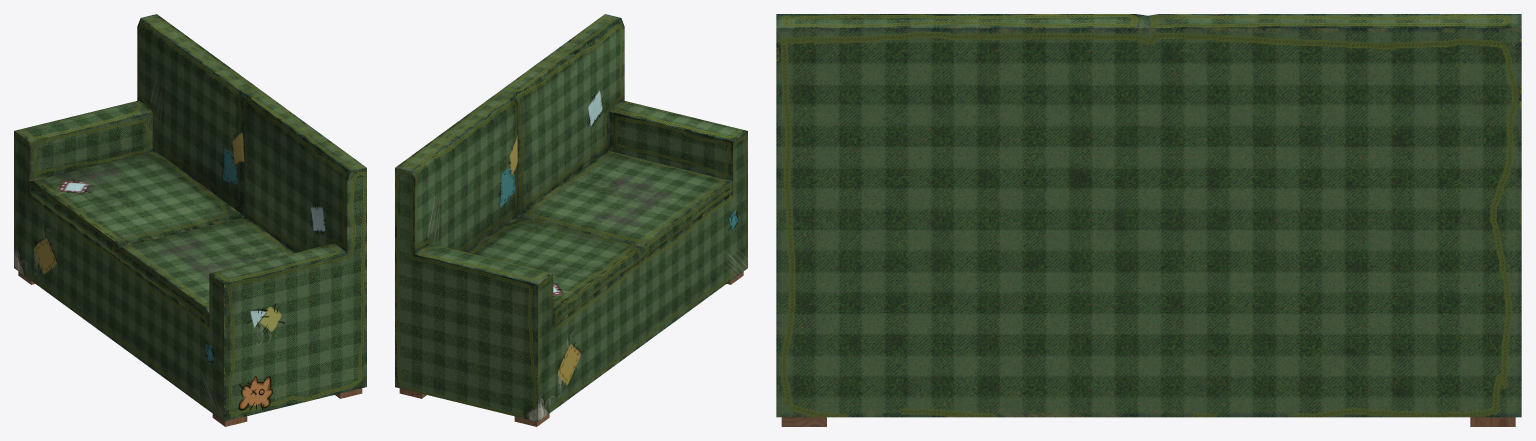
The model's file is Sofa_Fin.fbx.
3 renders of one model, left to right at view 1: azimuth 30°, elevation 25°; view 2: azimuth 150°, elevation 25°; view 3: azimuth 270°, elevation 25°, orthographic. The views are drawn at different scales.
Visible parts, largest first — view 1: sofa; view 2: sofa; view 3: sofa.
Part boxes in pixels (x1,y1,x2,y2): sofa: (14,14,366,426); sofa: (395,14,747,426); sofa: (776,14,1521,426).
Bounding box in the file's own units: 20.08 × 30 × 50.49.
2 materials, 2 textured.
